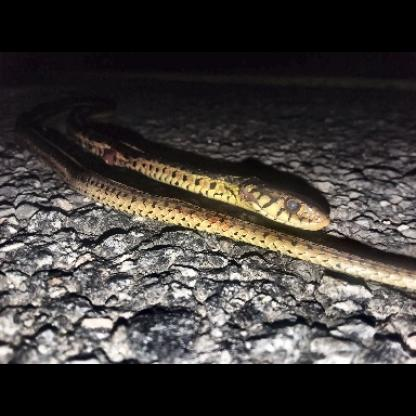Snake: (25, 107, 415, 291)
